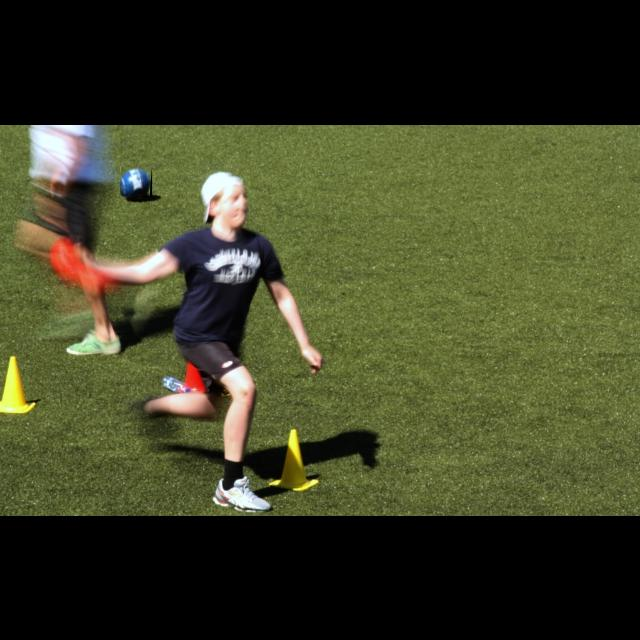Football: (120, 167, 152, 197)
